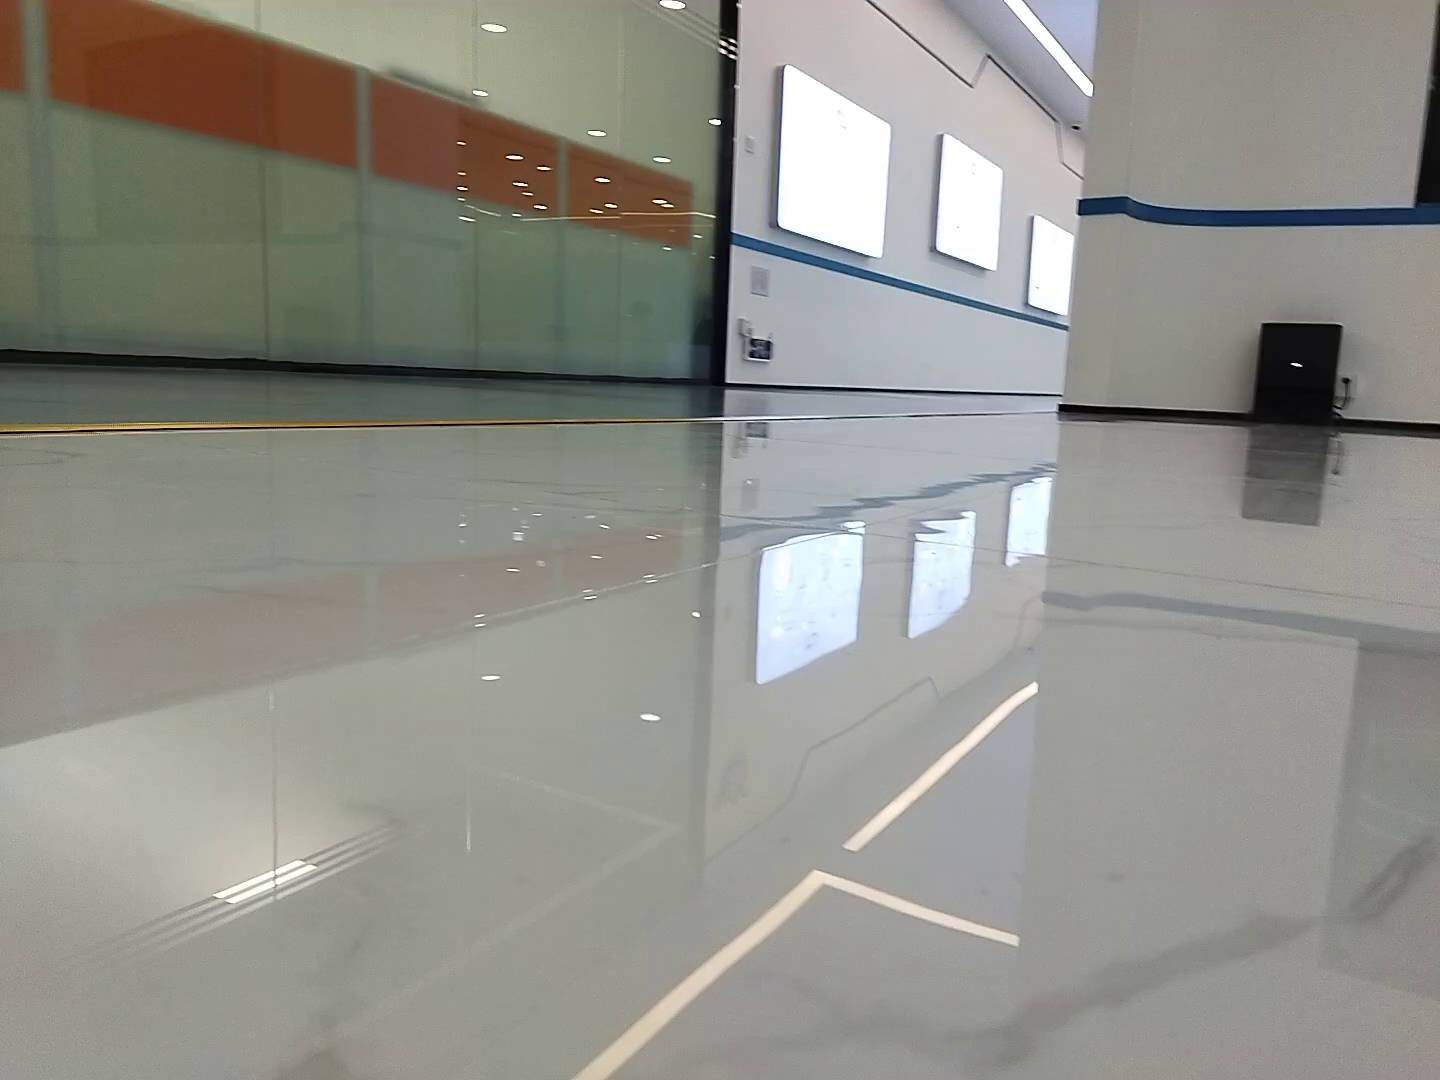dust collecting barrel: (1233, 321, 1348, 427)
